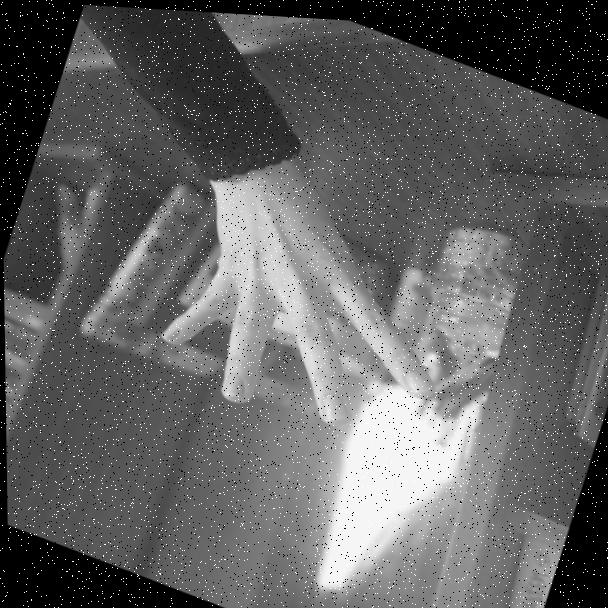four: (86, 90, 504, 486)
